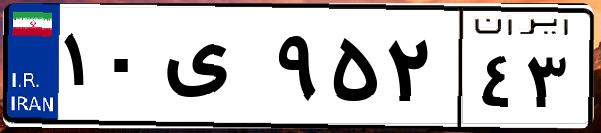0: (110, 28, 158, 98)
1: (57, 26, 110, 100)
2: (385, 28, 445, 110)
3: (525, 38, 570, 115)
4: (475, 38, 525, 113)
5: (330, 28, 385, 110)
9: (270, 28, 330, 110)
ی: (158, 20, 270, 120)
